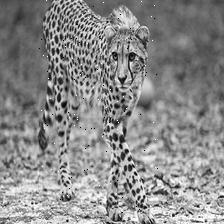Cheetha: (40, 0, 161, 224)
